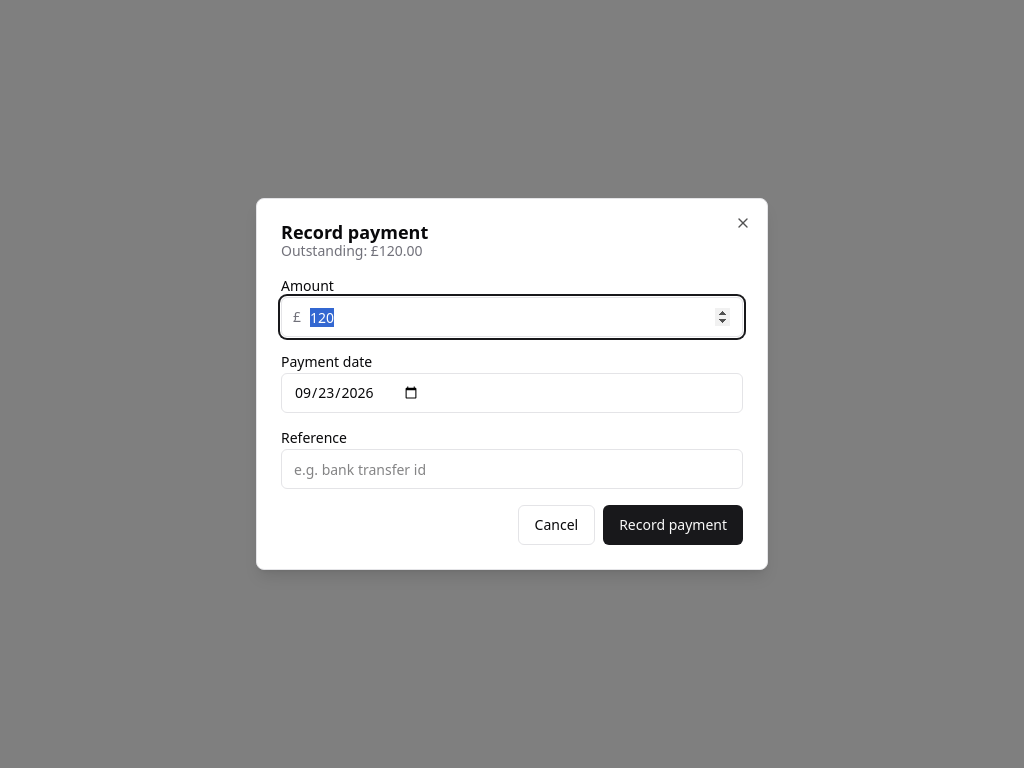
AllocatePaymentDialog › blocks amount greater than outstanding
This screenshot has width=1024, height=768.
Replace the text in the number field labelled "Amount" with "200" at x=512, y=317, box [281,297,743,337]
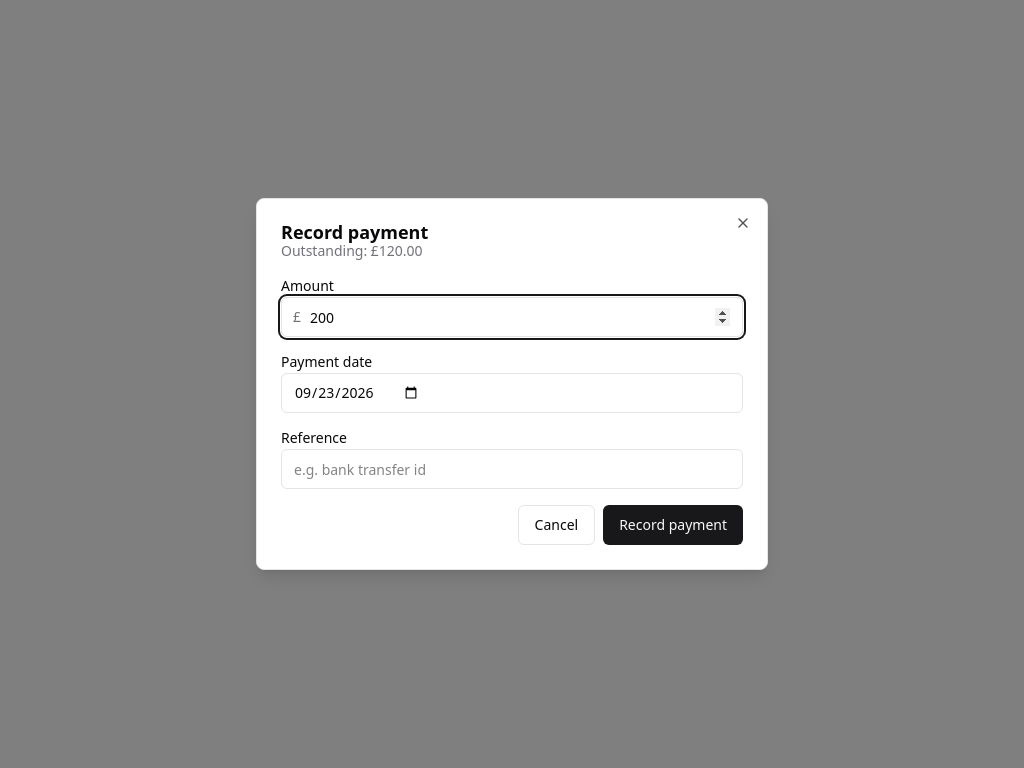
Click the button "Record payment".
click(673, 525)  # box [603,505,743,545]
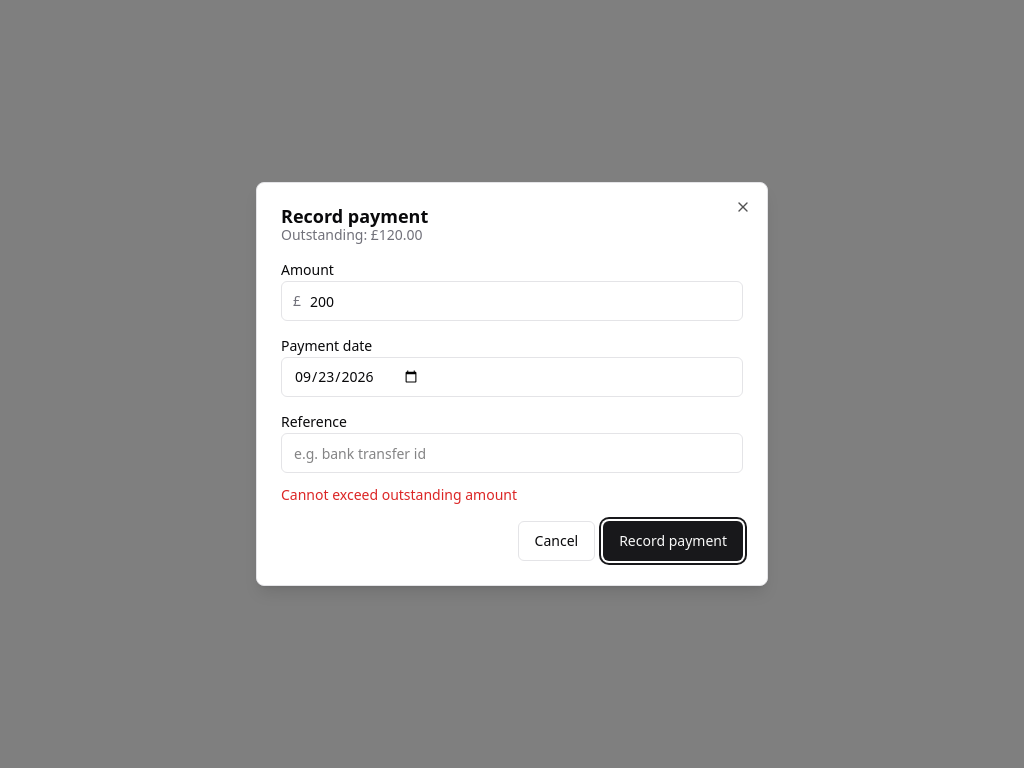
Now the message shows "Cannot exceed", box [281,485,517,504]
